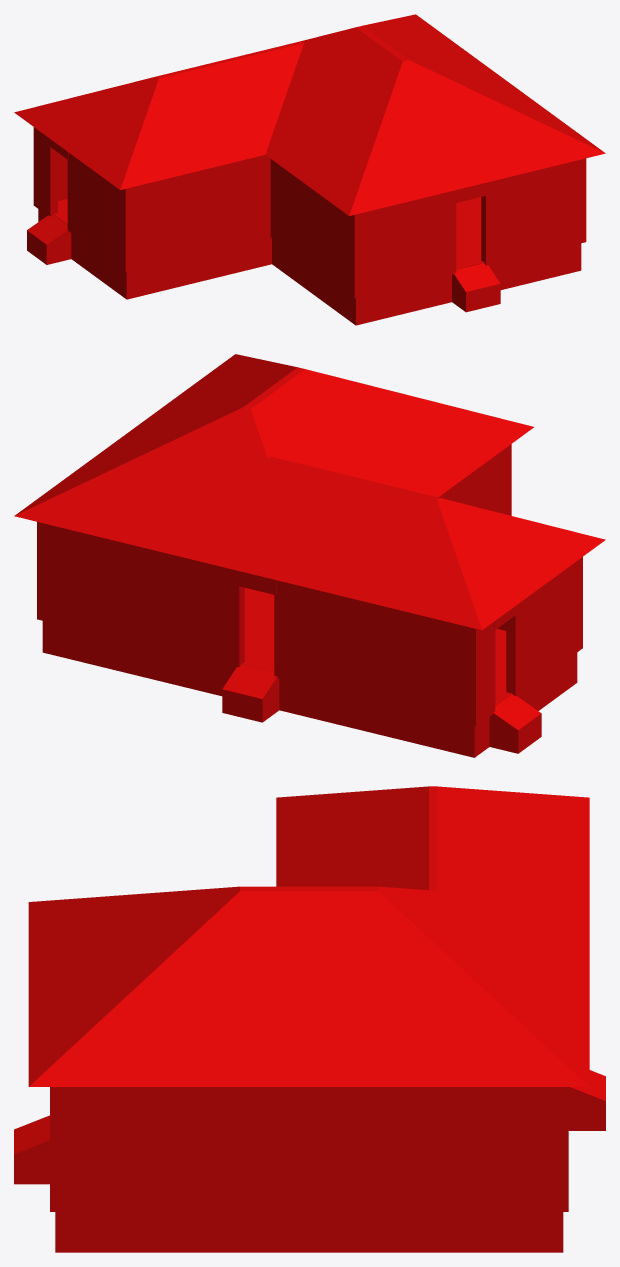
The model's file is SM_PolygonApocalypse_Bld_House_01_Collision.glb.
3 views of the same model, one above another, from view 1: azimuth 30°, elevation 25°; view 2: azimuth 150°, elevation 25°; view 3: azimuth 270°, elevation 25° (orthographic). The views are drawn at different scales.
Parts seen in each view (by area): view 1: SM_PolygonApocalypse_Bld_House_01_Collision; view 2: SM_PolygonApocalypse_Bld_House_01_Collision; view 3: SM_PolygonApocalypse_Bld_House_01_Collision.
Boxes of the visible parts, x1,y1,x2,y2 form: SM_PolygonApocalypse_Bld_House_01_Collision: (14, 14, 605, 325); SM_PolygonApocalypse_Bld_House_01_Collision: (14, 354, 605, 757); SM_PolygonApocalypse_Bld_House_01_Collision: (14, 786, 605, 1252).
Bounding box in the file's own units: 14.15 × 6.3 × 11.96.
